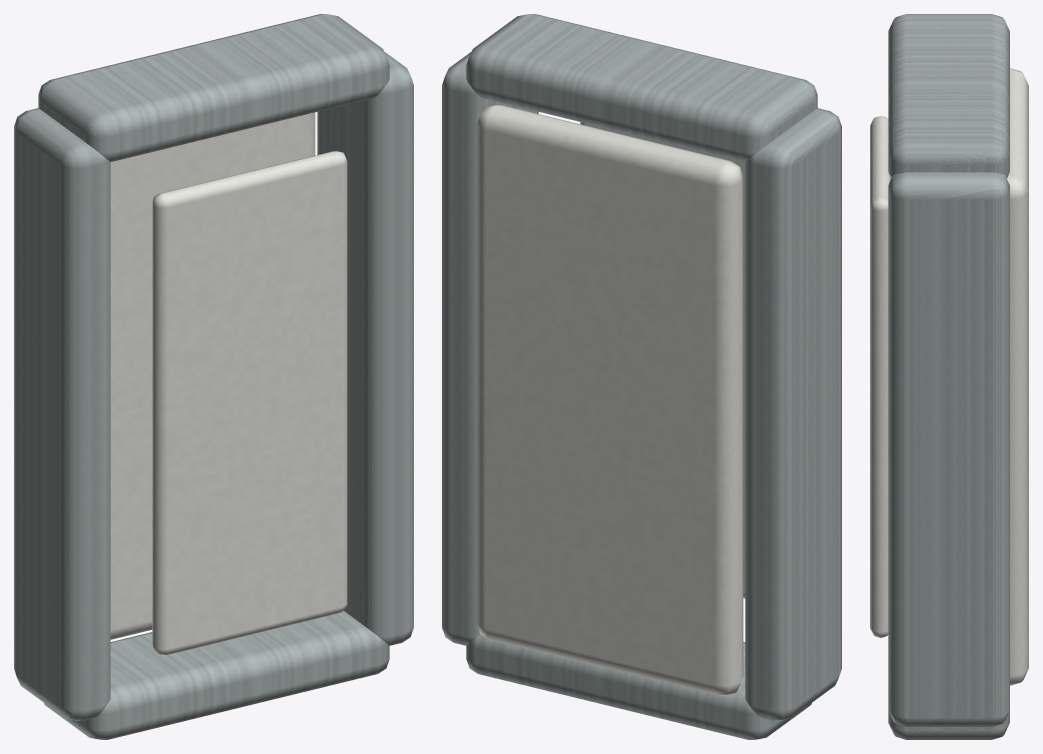
File: detail-help-panel-0.glb
3 renders of one model, left to right at view 1: azimuth 30°, elevation 25°; view 2: azimuth 150°, elevation 25°; view 3: azimuth 270°, elevation 25°, orthographic. The views are drawn at different scales.
Parts seen in each view (by area): view 1: frame_side (×2), graphic_surface, frame_rail (×2), panel_back; view 2: panel_back, frame_side (×2), frame_rail (×2), graphic_surface; view 3: frame_side, frame_rail (×2), panel_back, graphic_surface.
Part boxes in pixels (bbox=[...]): frame_side (×2): bbox=[14, 52, 413, 720]; graphic_surface: bbox=[152, 151, 347, 655]; frame_rail (×2): bbox=[38, 14, 389, 739]; panel_back: bbox=[110, 112, 315, 639]; panel_back: bbox=[477, 105, 743, 695]; frame_side (×2): bbox=[442, 52, 841, 720]; frame_rail (×2): bbox=[466, 14, 817, 739]; graphic_surface: bbox=[580, 122, 745, 598]; frame_side: bbox=[888, 172, 1009, 726]; frame_rail (×2): bbox=[888, 14, 1009, 739]; panel_back: bbox=[1007, 68, 1028, 685]; graphic_surface: bbox=[870, 116, 891, 637].
Size of the model in its own units: 0.255 by 0.435 by 0.1045.
Materials: 2 (2 with a texture image).
